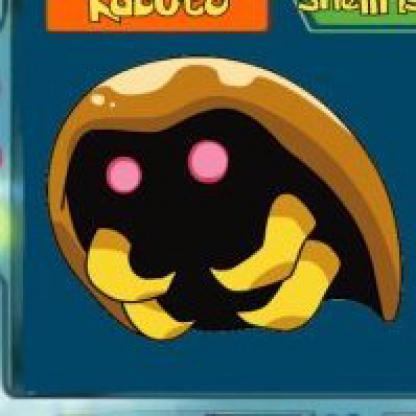Kabuto: (51, 51, 416, 352)
